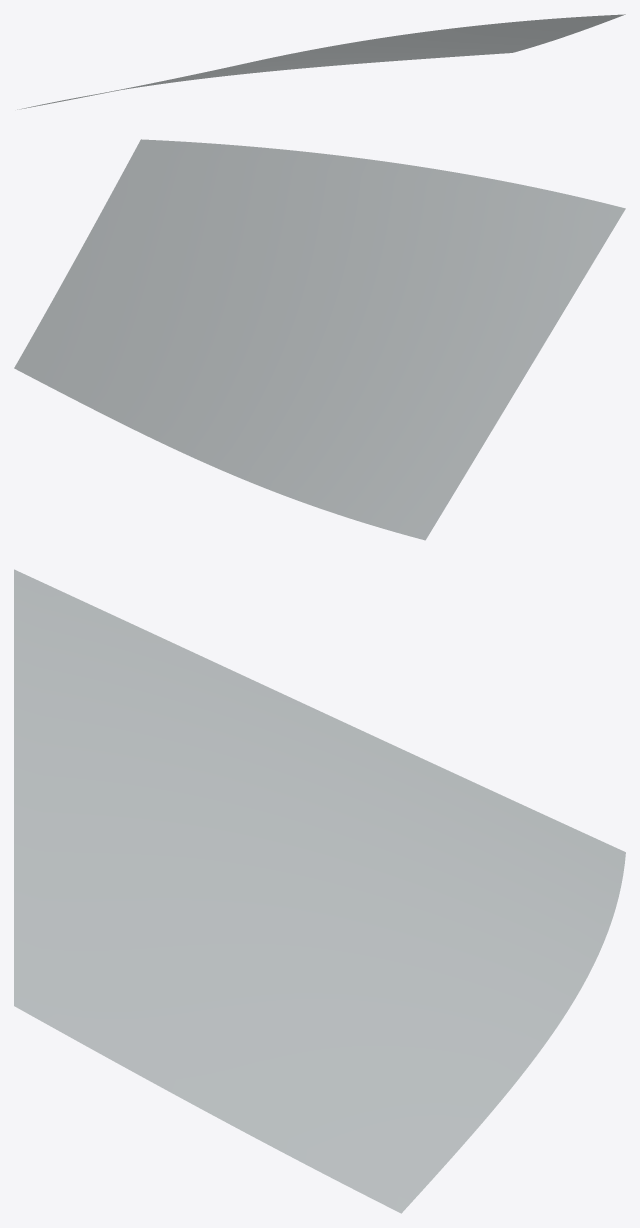
Rendered from alpine-14-7.glb.
3 views of the same model, one above another, from view 1: azimuth 30°, elevation 25°; view 2: azimuth 150°, elevation 25°; view 3: azimuth 270°, elevation 25° (orthographic). The views are drawn at different scales.
Visible parts, largest first — view 1: alpine-14-7; view 2: alpine-14-7; view 3: alpine-14-7.
Part boxes in pixels (x1,y1,x2,y2): alpine-14-7: (17,14,625,109); alpine-14-7: (14,139,625,540); alpine-14-7: (14,569,625,1213).
Size of the model in its own units: 256 by 93.52 by 183.
Materials: 1 (1 with a texture image).
